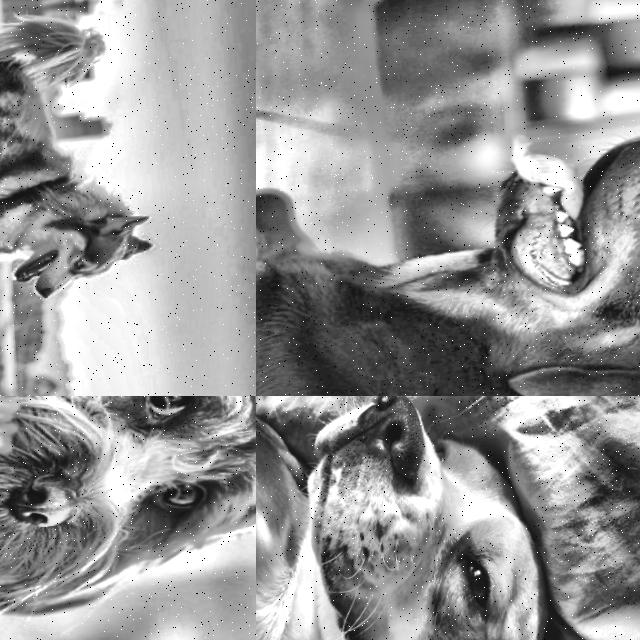beagle: (256, 396, 620, 640)
husky: (0, 153, 201, 327)
poodle: (0, 396, 256, 640)
rottweiler: (391, 61, 640, 396)
